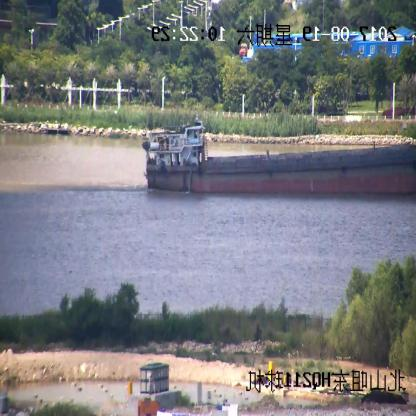Bulk Carrier: (144, 118, 416, 198)
